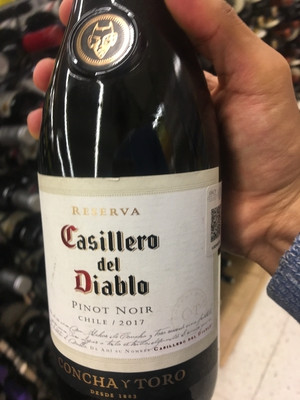casillero del diablo pinot noir: (32, 14, 237, 400)
